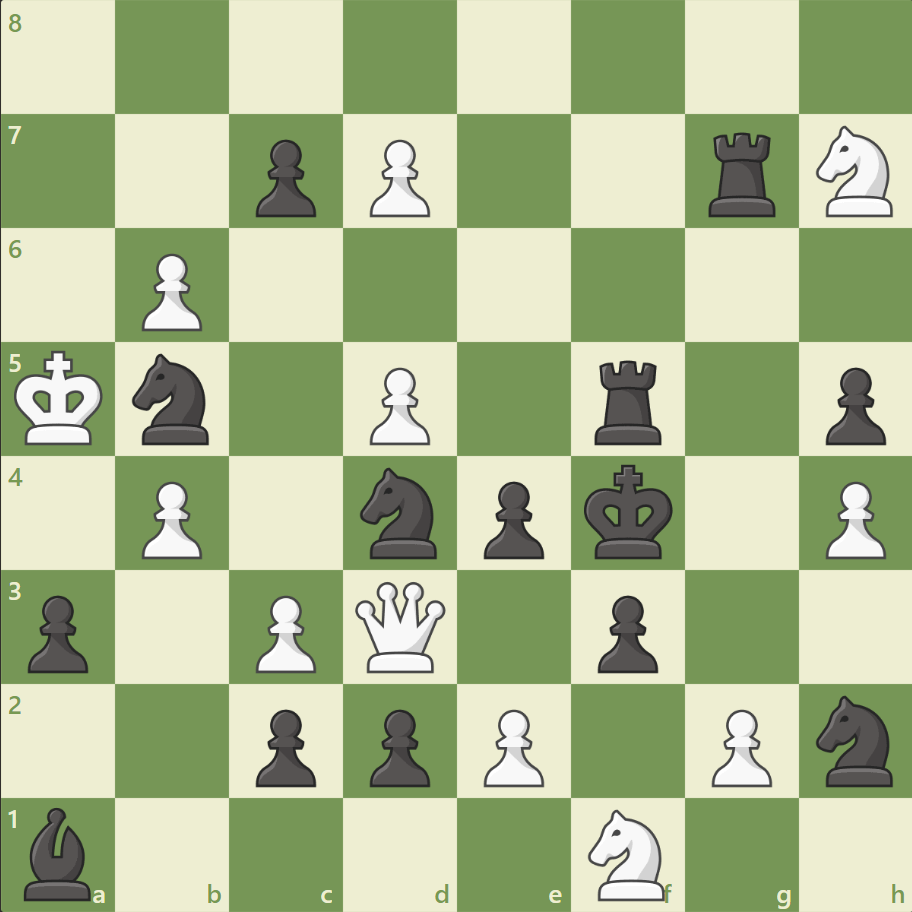K: (11, 344, 111, 452)
N: (806, 121, 903, 223), (579, 802, 676, 904)
P: (133, 246, 208, 337), (133, 473, 208, 564), (247, 586, 322, 677), (474, 700, 549, 791), (701, 700, 776, 791), (361, 132, 435, 223), (361, 359, 435, 450), (815, 473, 889, 564)
Q: (351, 576, 450, 676)
b: (17, 801, 101, 904)
k: (579, 458, 679, 566)
n: (351, 461, 449, 564), (124, 348, 222, 450), (806, 688, 903, 791)
p: (247, 132, 322, 223), (474, 473, 549, 564), (20, 586, 95, 677), (247, 700, 322, 791), (815, 359, 889, 450), (588, 586, 662, 677), (361, 700, 435, 791)
r: (700, 125, 783, 222), (587, 352, 670, 449)
